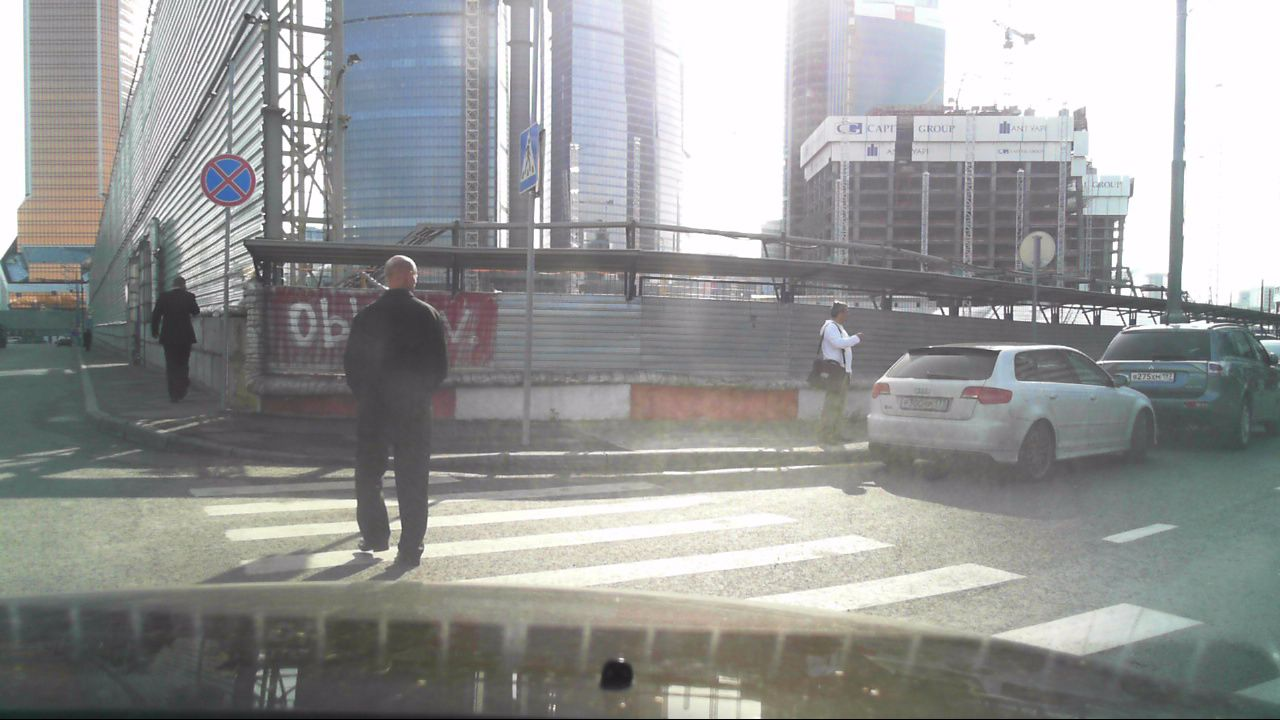No Parking: (198, 154, 255, 205)
